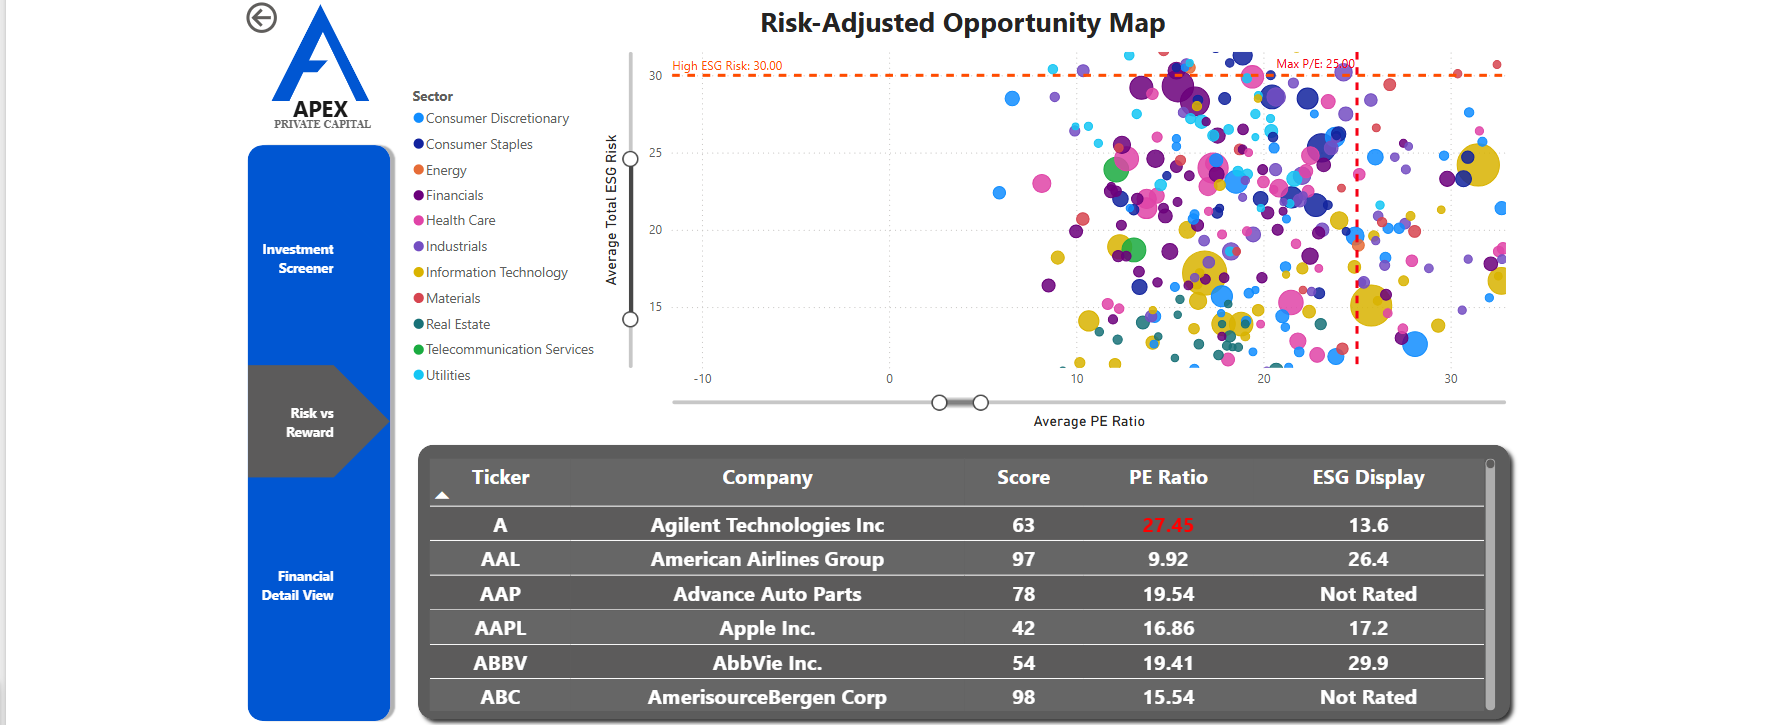

The dashboard page shown, as its layout file describes it:
{"tool":"powerbi","page":{"name":"Risk vs Reward","canvas":[1280,720],"ordinal":1},"visuals":[{"type":"shape","box":[165,431.7,1093.3,288.3],"z":0},{"type":"scatterChart","title":"Risk-Adjusted Opportunity Map","fields":{"X":["Avg(wealth_management_dss investment_universe.pe_ratio)"],"Y":["Avg(wealth_management_dss investment_universe.total_esg_risk)"],"Series":["wealth_management_dss investment_universe.sector"],"Size":["Sum(wealth_management_dss investment_universe.market_cap)"],"Category":["wealth_management_dss investment_universe.symbol"]},"box":[164.3,5.7,1094.3,425.7],"z":1000},{"type":"actionButton","box":[0,0,100,40],"z":2000},{"type":"tableEx","fields":{"Values":["wealth_management_dss investment_universe.symbol","wealth_management_dss investment_universe.company_name","wealth_management_dss investment_universe.proprietary_score","wealth_management_dss investment_universe.pe_ratio","wealth_management_dss investment_universe.ESG Display"]},"box":[180,450,1060,258.3],"z":3000},{"type":"shape","box":[0,140,153.3,580],"z":4000},{"type":"shape","box":[29.5,6.3,96.8,95.8],"z":5000},{"type":"shape","box":[47.6,33.8,66.5,68.8],"z":6000},{"type":"shape","box":[50.6,62.1,35.6,12.1],"z":7000},{"type":"textbox","box":[29.4,90,96.8,39.7],"z":8000},{"type":"textbox","box":[23,110,115.2,29.6],"z":9000},{"type":"pageNavigator","box":[6.9,201.5,140.8,433.8],"z":10000}]}

Visuals, with their boxes on the page's 1280x720 design canvas (x1, y1, x2, y2). These are canvas units, not pixel positions in the 1772x725 screenshot, which may show the page scaled, cropped or inside an application window:
shape: 165,432,1258,720
"Risk-Adjusted Opportunity Map" scatterChart: 164,6,1259,431
actionButton: 0,0,100,40
tableEx - wealth_management_dss investment_universe.symbol x wealth_management_dss investment_universe.company_name: 180,450,1240,708
shape: 0,140,153,720
shape: 30,6,126,102
shape: 48,34,114,103
shape: 51,62,86,74
textbox: 29,90,126,130
textbox: 23,110,138,140
pageNavigator: 7,202,148,635
